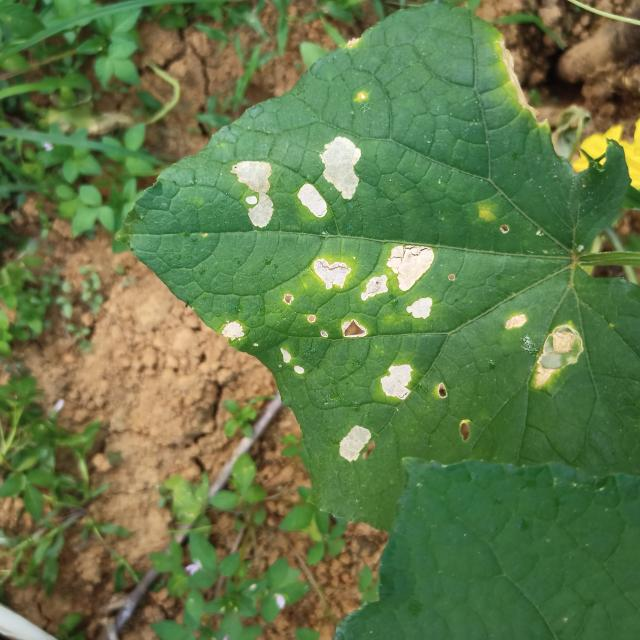disease_cucumber: (308, 242, 435, 340), (503, 312, 584, 389), (295, 135, 362, 219), (228, 157, 278, 229), (378, 360, 414, 400), (339, 424, 372, 463), (276, 343, 307, 377), (222, 318, 248, 344)
